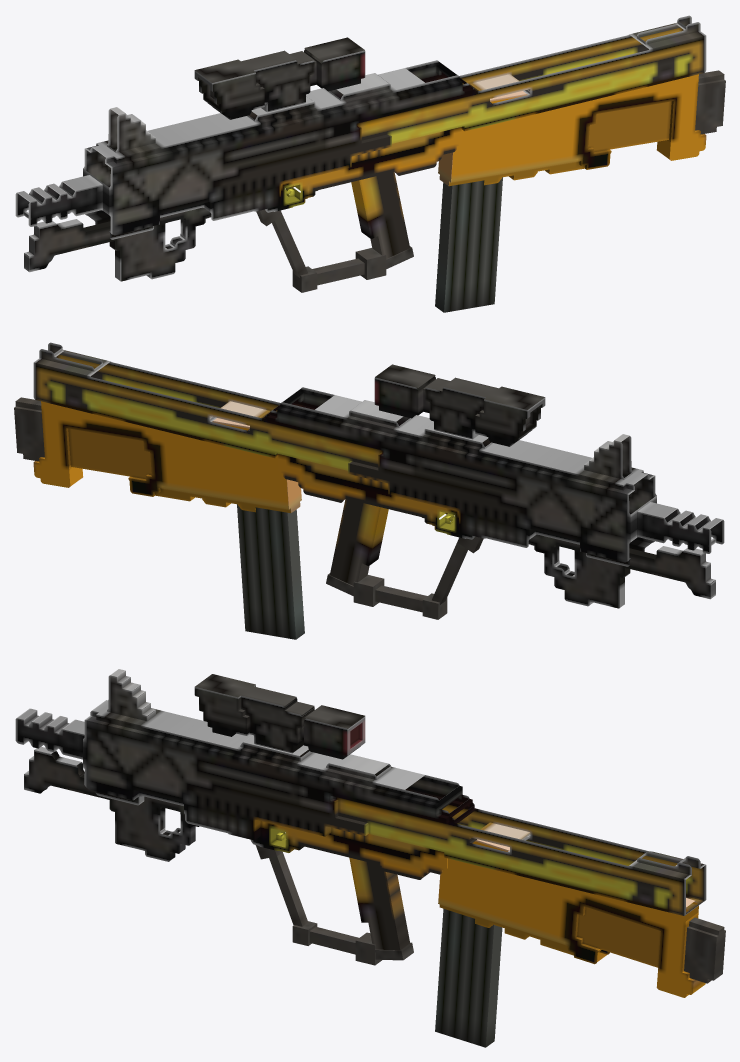
Rendered from sungmoi_1.fbx.
3 renders of one model, top to bottom at view 1: azimuth 30°, elevation 25°; view 2: azimuth 150°, elevation 25°; view 3: azimuth 330°, elevation 25°, orthographic.
Parts seen in each view (by area): view 1: gunn_voxel.003, gunn_voxel.001, gunn_voxel, Cube.009, gunn_voxel.002, Cube.008, Cube.010, Cube.012, Cube.013; view 2: gunn_voxel.003, gunn_voxel.001, gunn_voxel, Cube.009, gunn_voxel.002, Cube.008, Cube.010, Cube.012, Cube.013; view 3: gunn_voxel.003, gunn_voxel.001, gunn_voxel, Cube.009, gunn_voxel.002, Cube.008, Cube.010, Cube.012.
Boxes of the visible parts, x1,y1,x2,y2 form: gunn_voxel.003: (15, 15, 706, 239); gunn_voxel.001: (438, 70, 725, 186); gunn_voxel: (194, 37, 365, 119); Cube.009: (435, 177, 502, 312); gunn_voxel.002: (24, 207, 211, 281); Cube.008: (351, 172, 413, 268); Cube.010: (256, 209, 307, 277); Cube.012: (312, 258, 364, 285); Cube.013: (355, 248, 386, 279); gunn_voxel.003: (33, 342, 724, 566); gunn_voxel.001: (14, 397, 301, 513); gunn_voxel: (374, 364, 545, 446); Cube.009: (237, 504, 304, 639); gunn_voxel.002: (528, 534, 715, 608); Cube.008: (326, 499, 388, 595); Cube.010: (432, 536, 483, 604); Cube.012: (375, 585, 427, 612); Cube.013: (353, 575, 384, 606); gunn_voxel.003: (15, 669, 706, 915); gunn_voxel.001: (438, 839, 725, 997); gunn_voxel: (194, 674, 365, 759); Cube.009: (435, 908, 502, 1047); gunn_voxel.002: (24, 746, 199, 861); Cube.008: (349, 857, 413, 960); Cube.010: (255, 845, 308, 926); Cube.012: (309, 927, 358, 954).
Bounding box in the file's own units: 1390 × 557 × 90.
